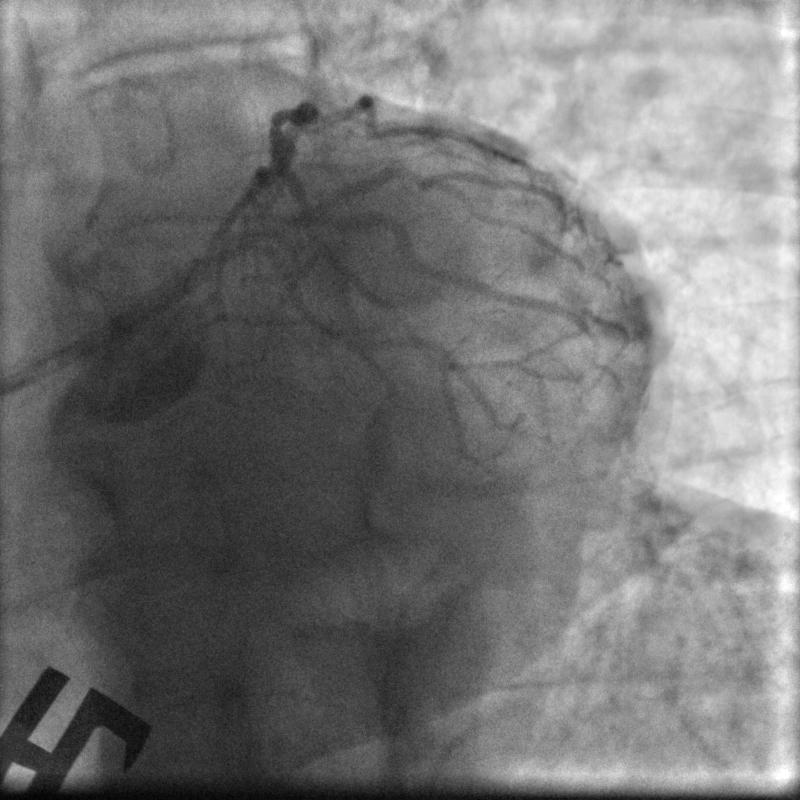Stenosis: (377, 165, 436, 192)
